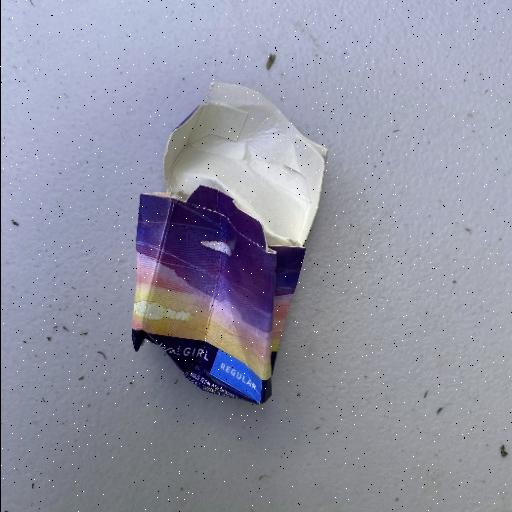Cardboard: (128, 80, 330, 406), (130, 184, 278, 402), (162, 80, 328, 250)
